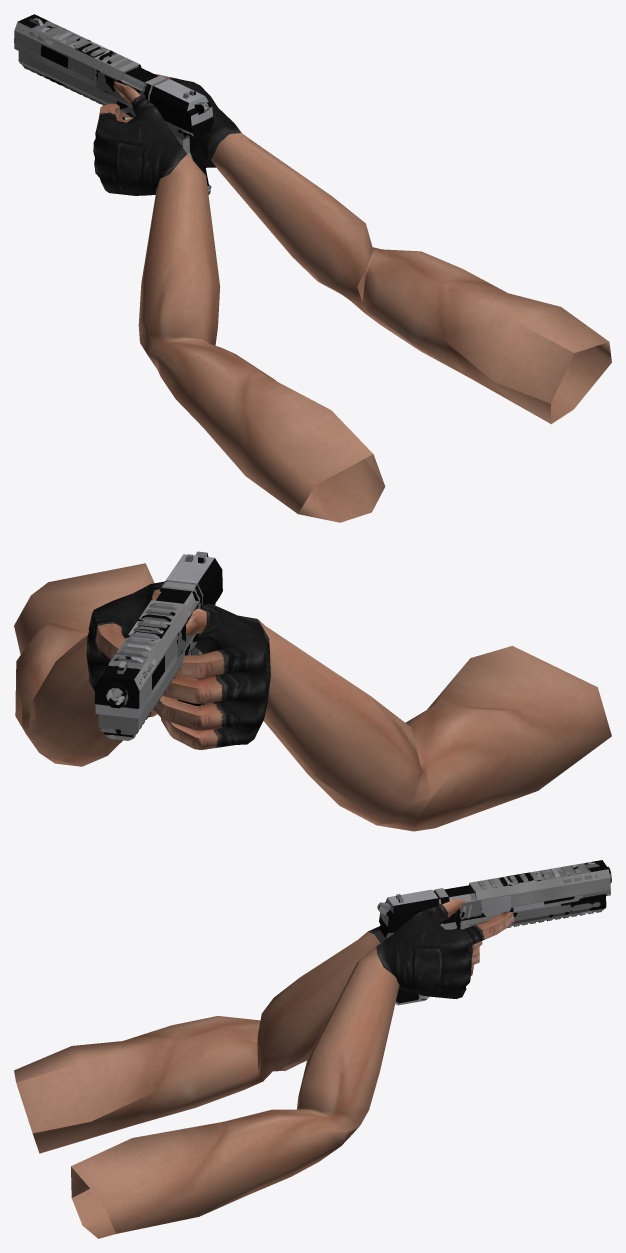
File: gun_eagle.glb
3 renders of one model, top to bottom at view 1: azimuth 30°, elevation 25°; view 2: azimuth 150°, elevation 25°; view 3: azimuth 270°, elevation 25°, orthographic. The views are drawn at different scales.
Visible parts, largest first — view 1: body_ARMS, slide_QUAT, body_QUAT, slide_QUATP, body_QUATP; view 2: body_ARMS, slide_QUAT, slide_QUATP, body_QUAT, body_QUATP; view 3: body_ARMS, slide_QUAT, body_QUAT, slide_QUATP.
Part boxes in pixels (box(x1,y1,x2,y2)): body_ARMS: box(93, 74, 611, 522); slide_QUAT: box(14, 14, 213, 132); body_QUAT: box(18, 51, 211, 140); slide_QUATP: box(40, 24, 132, 68); body_QUATP: box(22, 65, 205, 169); body_ARMS: box(14, 563, 611, 831); slide_QUAT: box(94, 551, 222, 718); slide_QUATP: box(113, 602, 179, 663); body_QUAT: box(98, 603, 215, 737); body_QUATP: box(103, 647, 202, 740); body_ARMS: box(14, 898, 514, 1238); slide_QUAT: box(377, 860, 610, 933); body_QUAT: box(380, 896, 606, 938); slide_QUATP: box(477, 865, 580, 889).
Bounding box in the file's own units: 54.48 × 39.85 × 79.32.
Materials: 3 (3 with a texture image).
